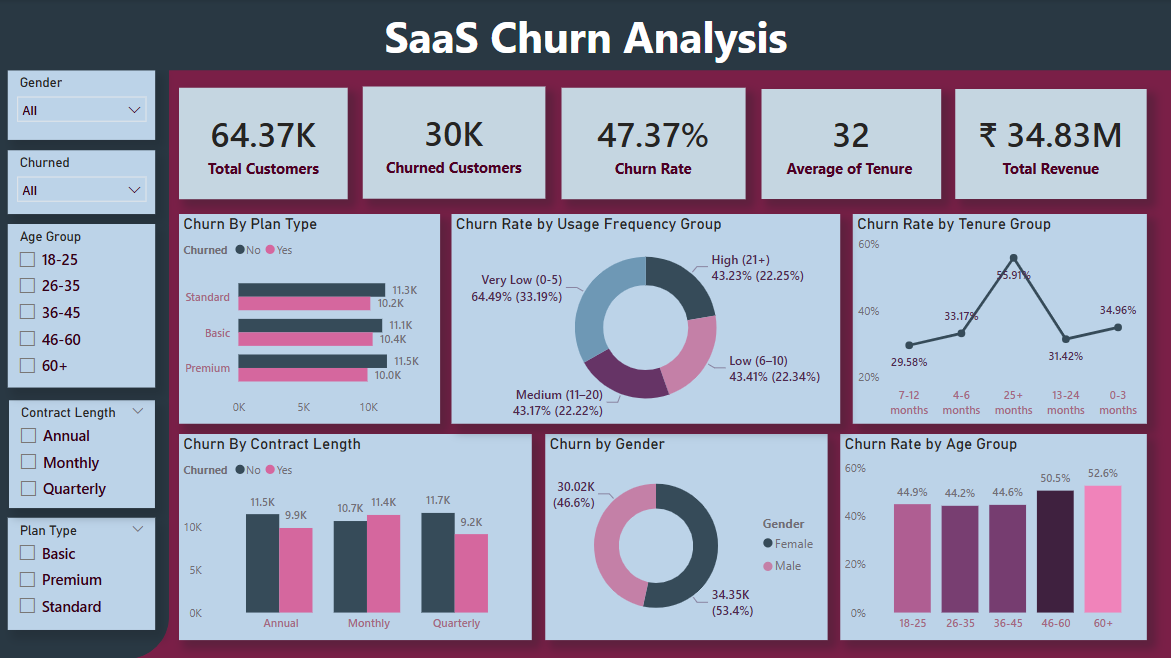

What the dashboard file says about the page in this screenshot:
{"tool":"powerbi","page":{"name":"Page 1","canvas":[1280,720],"ordinal":0},"visuals":[{"type":"shape","box":[0,0,185.4,719.9],"z":0},{"type":"card","fields":{"Values":["CountNonNull(customer_churn.Customer  ID)"]},"box":[196.3,96.8,184.1,121.3],"z":1000},{"type":"card","fields":{"Values":["customer_churn.Churn Rate"]},"box":[613.6,96.8,200.4,121.3],"z":2000},{"type":"card","fields":{"Values":["customer_churn.Churned Customers"]},"box":[396.8,95.4,199.1,122.7],"z":3000},{"type":"slicer","fields":{"Values":["customer_churn.Gender"]},"box":[9.5,77.7,160.9,76.4],"z":4000},{"type":"slicer","fields":{"Values":["customer_churn.Plan Type"]},"box":[9.5,565.8,160.9,122.7],"z":5000},{"type":"slicer","fields":{"Values":["customer_churn.Contract Length"]},"box":[10.9,437.7,159.5,117.3],"z":6000},{"type":"slicer","fields":{"Values":["customer_churn.Churned"]},"box":[9.5,165,160.9,69.5],"z":7000},{"type":"clusteredBarChart","title":"Churn By Plan Type","fields":{"Category":["customer_churn.Plan Type"],"Series":["customer_churn.Churned"],"Y":["CountNonNull(customer_churn.Customer  ID)"]},"box":[196.3,234.5,285,229.1],"z":8000},{"type":"clusteredColumnChart","title":"Churn By Contract Length","fields":{"Category":["customer_churn.Contract Length"],"Series":["customer_churn.Churned"],"Y":["CountNonNull(customer_churn.Customer  ID)"]},"box":[196.3,474.5,384.5,225],"z":9000},{"type":"donutChart","title":"Churn by Gender","fields":{"Category":["customer_churn.Gender"],"Y":["CountNonNull(customer_churn.Churned)"]},"box":[595.8,474.5,308.1,225],"z":10000},{"type":"shape","box":[0,0,1280.3,77.7],"z":11000},{"type":"card","fields":{"Values":["Avg(customer_churn.Tenure (Months))"]},"box":[831.7,98.2,196.3,120],"z":12000},{"type":"slicer","fields":{"Values":["Age Group.Age Group"]},"box":[9.5,245.4,160.9,178.6],"z":13000},{"type":"card","fields":{"Values":["Sum(Age Group.Total Spend)"]},"box":[1043,98.2,208.6,120],"z":14000},{"type":"lineChart","fields":{"Y":["customer_churn.Churn Rate"],"Category":["Age Group.Tenure Group"]},"box":[931.2,234.5,320.4,229.1],"z":15000},{"type":"clusteredColumnChart","title":"Churn Rate by Age Group","fields":{"Category":["Age Group.Age Group"],"Y":["customer_churn.Churn Rate"]},"box":[917.6,474.5,334,225],"z":16000},{"type":"donutChart","fields":{"Series":["customer_churn.Usage Frequency Group"],"Y":["customer_churn.Churn Rate"]},"box":[493.6,234.5,424,229.1],"z":17000}]}

Visuals, with their boxes in screenshot pixels (x1, y1, x2, y2), scaled from the page's 1280x720 canvas onto the 1171x658 screenshot:
shape: <box>0,0,170,657</box>
card - CountNonNull(customer_churn.Customer  ID): <box>180,88,348,199</box>
card - customer_churn.Churn Rate: <box>561,88,745,199</box>
card - customer_churn.Churned Customers: <box>363,87,545,199</box>
slicer - customer_churn.Gender: <box>9,71,156,141</box>
slicer - customer_churn.Plan Type: <box>9,517,156,629</box>
slicer - customer_churn.Contract Length: <box>10,400,156,507</box>
slicer - customer_churn.Churned: <box>9,151,156,214</box>
"Churn By Plan Type" clusteredBarChart: <box>180,214,440,424</box>
"Churn By Contract Length" clusteredColumnChart: <box>180,434,531,639</box>
"Churn by Gender" donutChart: <box>545,434,827,639</box>
shape: <box>0,0,1170,71</box>
card - Avg(customer_churn.Tenure (Months)): <box>761,90,940,199</box>
slicer - Age Group.Age Group: <box>9,224,156,387</box>
card - Sum(Age Group.Total Spend): <box>954,90,1145,199</box>
lineChart - customer_churn.Churn Rate x Age Group.Tenure Group: <box>852,214,1145,424</box>
"Churn Rate by Age Group" clusteredColumnChart: <box>839,434,1145,639</box>
donutChart - customer_churn.Usage Frequency Group x customer_churn.Churn Rate: <box>452,214,839,424</box>
